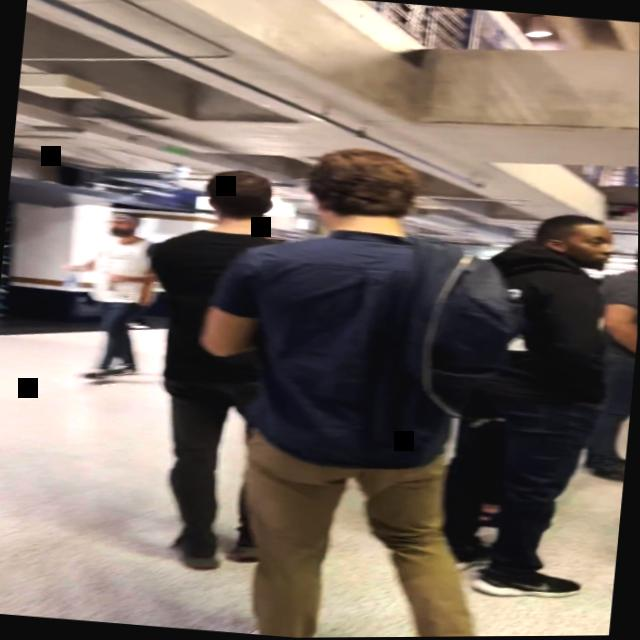NO-Mask: (576, 221, 617, 272), (110, 214, 137, 240)
